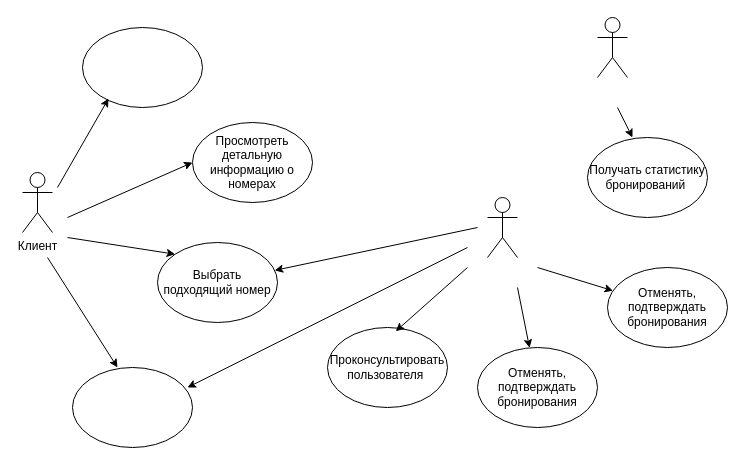
Image size: 745x465. Some labels were removed from this diagram. Each missing label, with the centre of its shape:
Администратор: point (612, 47)
Забронировать выбранный номер: point (132, 407)
Менеджер: point (502, 227)
Просмотреть доступные номера: point (142, 67)
